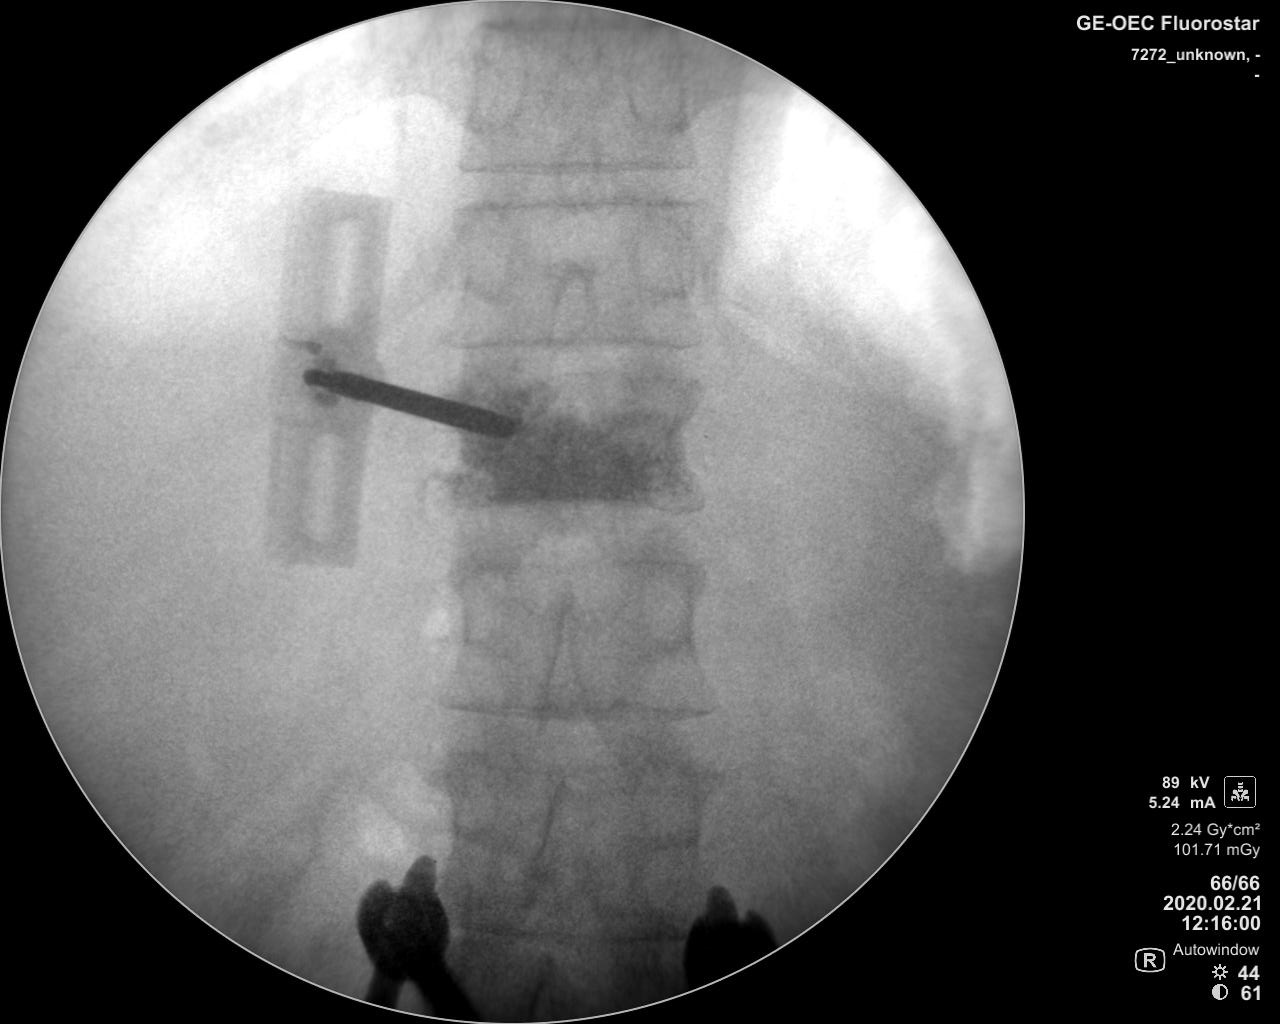eyes: (458, 26, 529, 137), (629, 762, 713, 850), (451, 207, 523, 308), (624, 30, 686, 141), (628, 211, 702, 303), (441, 562, 515, 651), (429, 760, 502, 850), (636, 551, 699, 650)
line: (437, 903, 683, 955), (422, 691, 717, 729), (429, 487, 728, 522), (432, 192, 726, 226), (433, 326, 715, 358), (439, 150, 713, 178)
nose: (539, 583, 591, 739), (533, 770, 589, 902), (543, 255, 599, 352), (550, 119, 606, 213), (555, 4, 602, 84)
